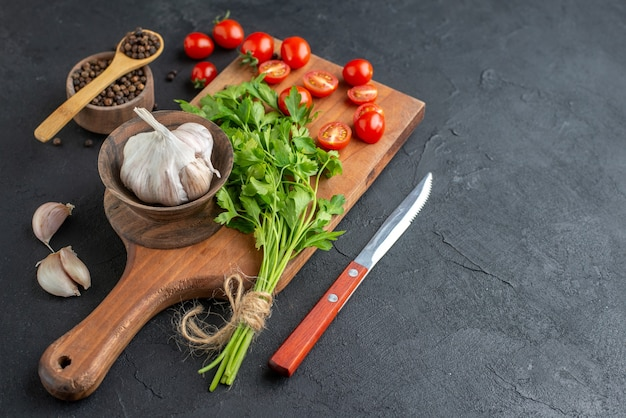knife: (266, 171, 435, 377)
